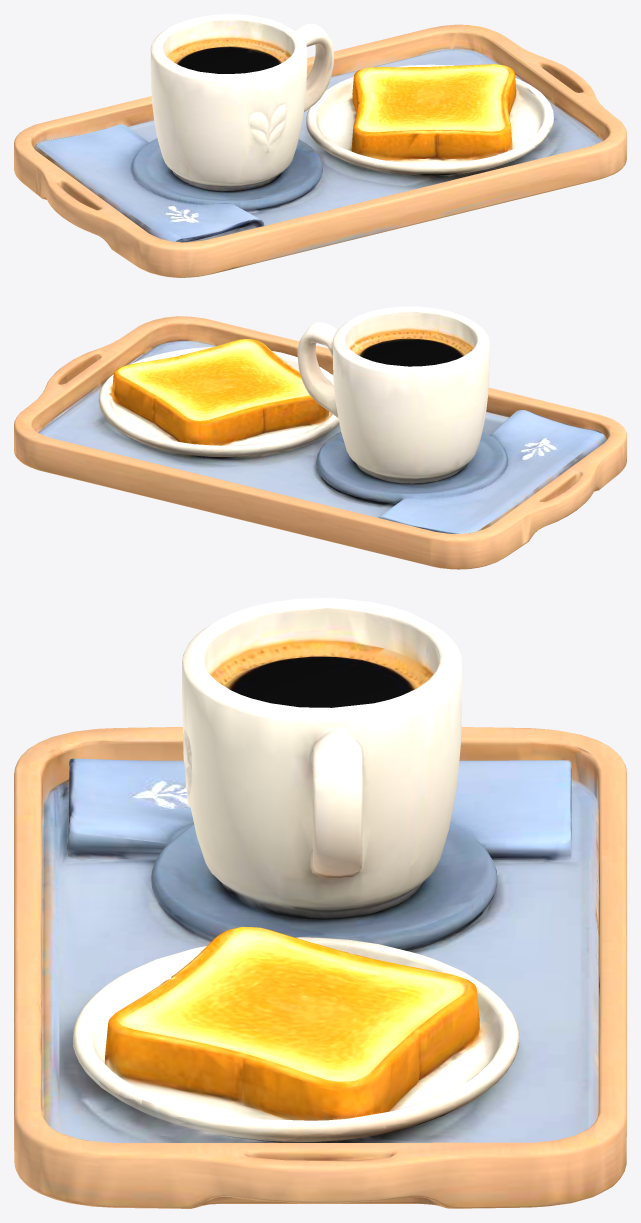
Rendered from cafe-tostada.glb.
The picture shows the model from 3 angles, top to bottom: view 1: azimuth 30°, elevation 25°; view 2: azimuth 150°, elevation 25°; view 3: azimuth 270°, elevation 25°; orthographic projection. The views are drawn at different scales.
Parts seen in each view (by area): view 1: node_0; view 2: node_0; view 3: node_0.
Part boxes in pixels (left/top/right/bottom): node_0: left=14, top=14, right=626, bottom=277; node_0: left=14, top=306, right=626, bottom=569; node_0: left=14, top=598, right=626, bottom=1208.
Bounding box in the file's own units: 0.6369 × 0.1702 × 0.3618.
1 material, 1 textured.
